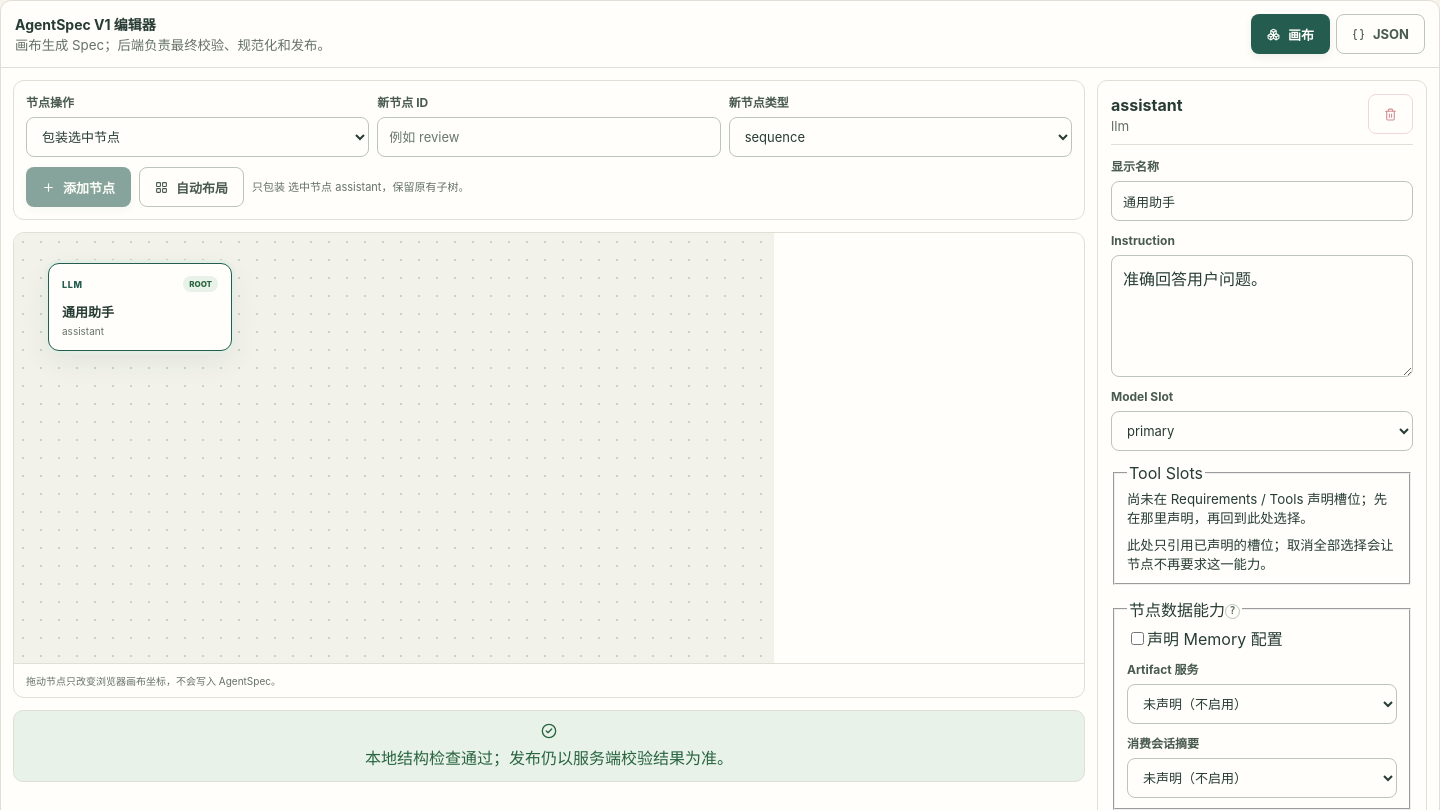
it: AgentSpec controlled editing regressions › keeps the canvas and focus when Instruction is cleared and retyped
The image size is (1440, 810).
Clear the text box labelled "Instruction" at (1262, 316), box [1111,255,1413,377]
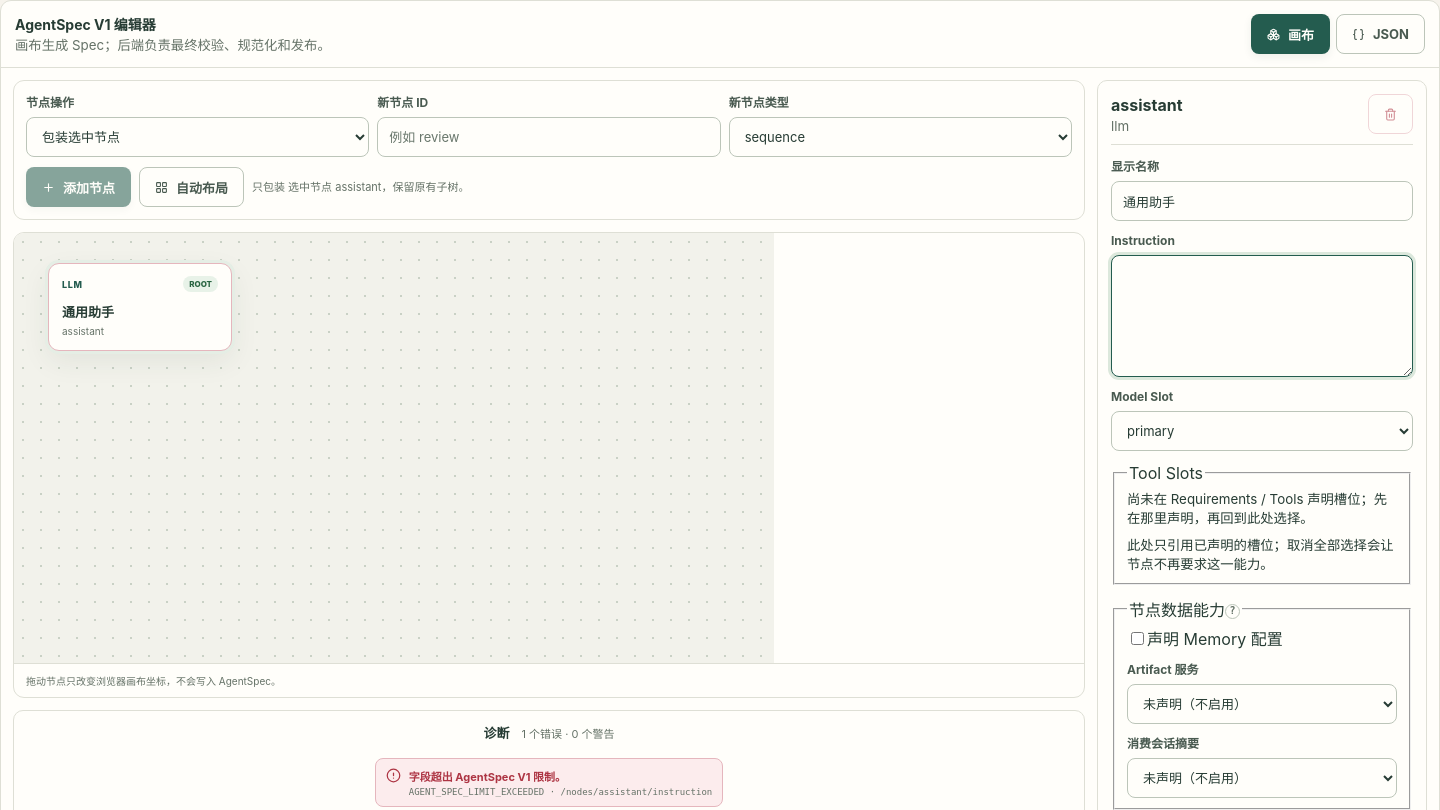
Expected: the element with test id "agent-canvas" is shown, [14,233,774,663]
Expected: the text "AGENT_SPEC_LIMIT_EXCEEDED · /nodes/assistant/instruction" is shown, [409,787,712,797]
Type "重新输入指令" into the text box labelled "Instruction" at (1262, 316), box [1111,255,1413,377]
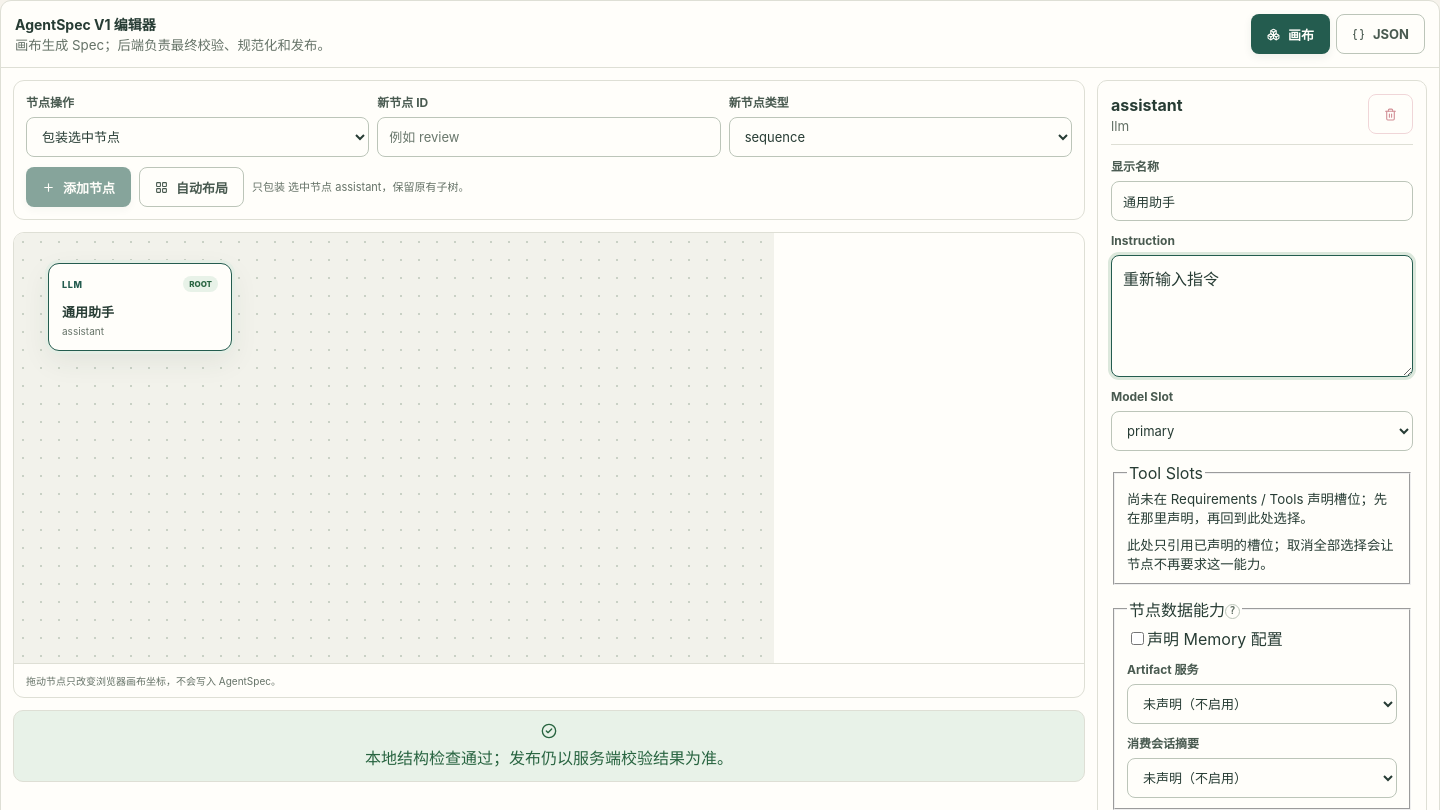
Expected: the button "AGENT_SPEC_LIMIT_EXCEEDED" is gone
